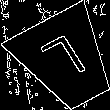L_SE: (38, 31, 95, 91)
